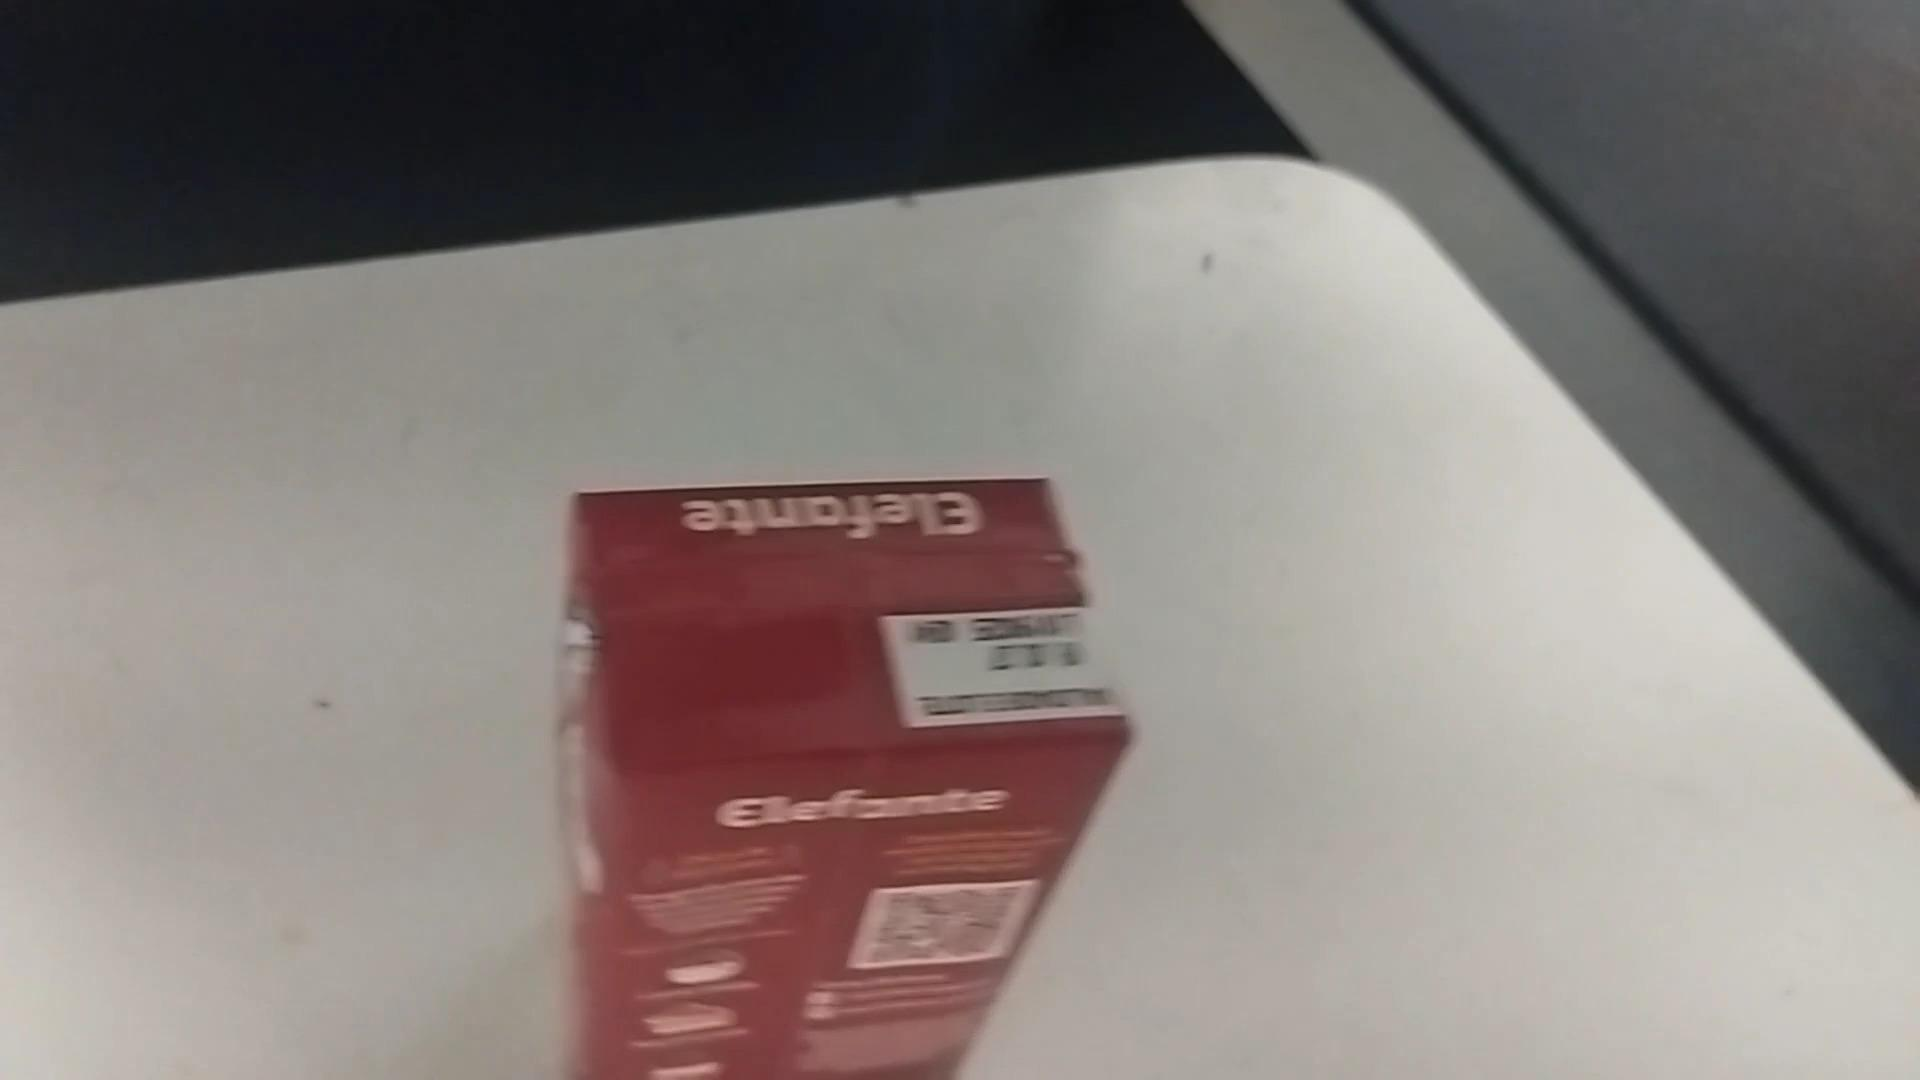tomate: (489, 438, 1199, 1075)
